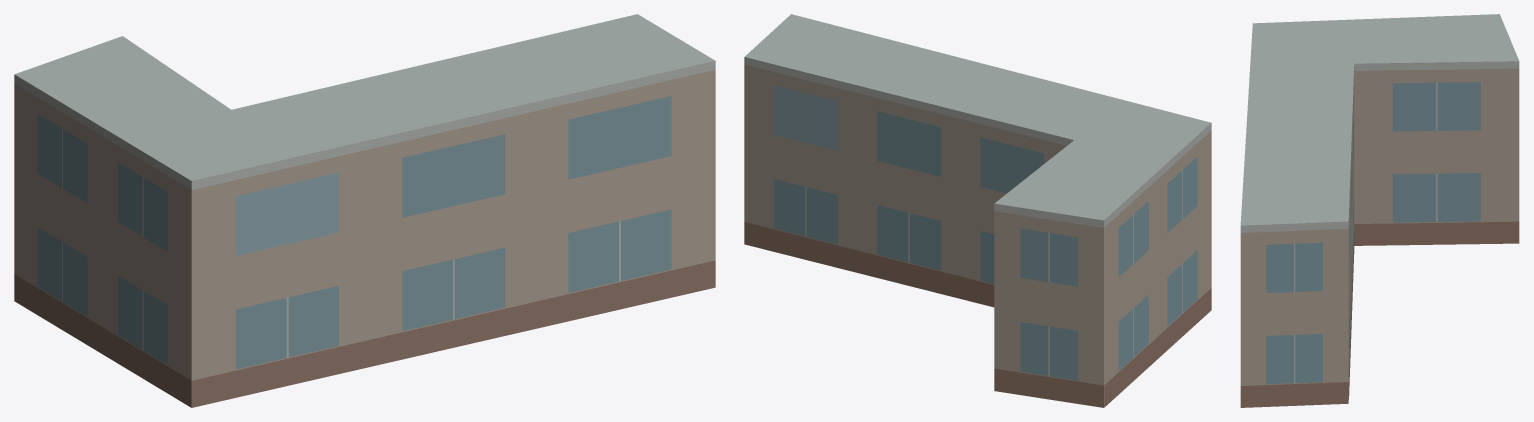
File: survey-upis-32466112.glb
The picture shows the model from 3 angles, left to right: view 1: azimuth 30°, elevation 25°; view 2: azimuth 150°, elevation 25°; view 3: azimuth 270°, elevation 25°; orthographic projection. The views are drawn at different scales.
Parts seen in each view (by area): view 1: survey-upis-32466112.tmp; view 2: survey-upis-32466112.tmp; view 3: survey-upis-32466112.tmp.
Part boxes in pixels (<box>): survey-upis-32466112.tmp: <box>14,14,715,407</box>; survey-upis-32466112.tmp: <box>744,14,1211,407</box>; survey-upis-32466112.tmp: <box>1240,14,1519,407</box>.
Size of the model in its own units: 15.21 by 6.1 by 8.47.
